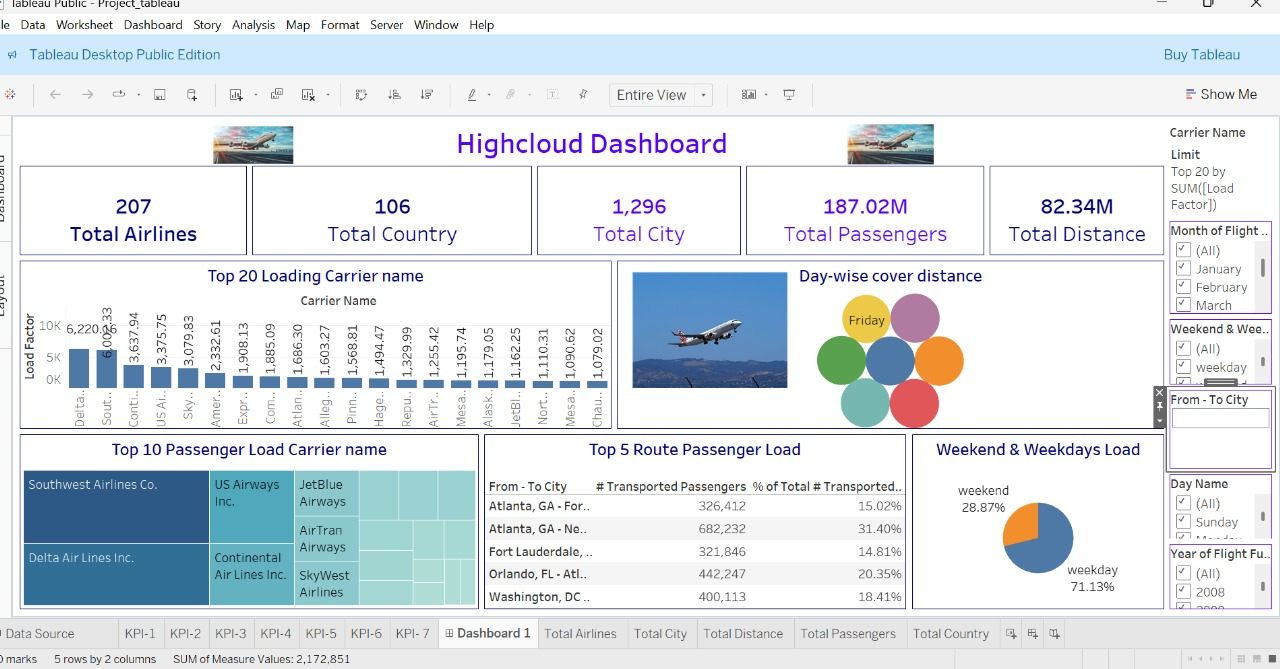

The dashboard page shown, as its layout file describes it:
{"tool":"tableau","page":{"name":"Dashboard 1","canvas":[1000,1000],"units":"permille","ordinal":0},"visuals":[{"type":"title","box":[4.2,10.7,906.5,84.5]},{"type":"filter","title":"KPI-3","param":"[federated.0r1rbe11ncxlyl14nt79317rqwx3].[none:Carrier Name:nk]","box":[910.7,10.7,85,194.4]},{"type":"image","param":"C:/Users/hp0084/OneDrive/ExcelR Project/Airoplane Image.jpg","box":[584.8,17.4,216.3,80.4]},{"type":"image","param":"C:/Users/hp0084/OneDrive/ExcelR Project/Airoplane Image.jpg","box":[71.1,21.4,238.8,75.1]},{"type":"worksheet","title":"Total Airlines","mark":"Automatic","box":[4.2,95.2,183.2,189]},{"type":"worksheet","title":"Total Country","mark":"Automatic","box":[187.4,95.2,224.9,189]},{"type":"worksheet","title":"Total City","mark":"Automatic","box":[412.3,95.2,165,189]},{"type":"worksheet","title":"Total Passengers","mark":"Automatic","box":[577.3,95.2,191.8,189]},{"type":"worksheet","title":"Total Distance","mark":"Automatic","box":[769.1,95.2,141.6,189]},{"type":"filter","title":"KPI-6","param":"[federated.0r1rbe11ncxlyl14nt79317rqwx3].[mn:Calculation_305681841304465409:ok]","box":[910.7,205.1,85,195.7]},{"type":"worksheet","title":"KPI-3","mark":"Automatic","rows":["Calculation_85568410148225024"],"cols":["Carrier Name"],"box":[4.2,284.2,471,345.9]},{"type":"worksheet","title":"KPI- 7","mark":"Circle","box":[475.2,284.2,435.5,345.9]},{"type":"image","param":"C:/Users/hp0084/OneDrive/ExcelR Project/airport-aviation.jpg","box":[489.4,312.3,122.2,262.7]},{"type":"filter","title":"KPI-6","param":"[federated.0r1rbe11ncxlyl14nt79317rqwx3].[none:Calculation_1607503608885133314:n","box":[910.7,400.8,85,140.3]},{"type":"filter","title":"KPI-5","param":"[federated.0r1rbe11ncxlyl14nt79317rqwx3].[none:From - To City:nk]","box":[910.7,541.1,85,167.6]},{"type":"worksheet","title":"KPI-4","mark":"Automatic","box":[4.2,630,366.2,359.2]},{"type":"worksheet","title":"KPI-5","mark":"Automatic","rows":["From - To City"],"box":[370.5,630,337.1,359.2]},{"type":"worksheet","title":"KPI-6","mark":"Pie","box":[707.6,630,203.2,359.2]},{"type":"filter","title":"KPI- 7","param":"[federated.0r1rbe11ncxlyl14nt79317rqwx3].[none:Calculation_1607503608886775811:n","box":[910.7,708.7,85,140.3]},{"type":"filter","title":"KPI-6","param":"[federated.0r1rbe11ncxlyl14nt79317rqwx3].[yr:Calculation_305681841304465409:ok]","box":[910.7,849,85,140.3]}]}

Visuals, with their boxes on the dashboard's canvas, which has no fixed pixel size, in thousandths of its width and height (x1, y1, x2, y2). These are canvas units, not pixel positions in the 1280x669 screenshot, which may show the page scaled, cropped or inside an application window:
title: l=4, t=11, r=911, b=95
"KPI-3" filter: l=911, t=11, r=996, b=205
image: l=585, t=17, r=801, b=98
image: l=71, t=21, r=310, b=96
"Total Airlines" worksheet: l=4, t=95, r=187, b=284
"Total Country" worksheet: l=187, t=95, r=412, b=284
"Total City" worksheet: l=412, t=95, r=577, b=284
"Total Passengers" worksheet: l=577, t=95, r=769, b=284
"Total Distance" worksheet: l=769, t=95, r=911, b=284
"KPI-6" filter: l=911, t=205, r=996, b=401
"KPI-3" worksheet: l=4, t=284, r=475, b=630
"KPI- 7" worksheet (Circle marks): l=475, t=284, r=911, b=630
image: l=489, t=312, r=612, b=575
"KPI-6" filter: l=911, t=401, r=996, b=541
"KPI-5" filter: l=911, t=541, r=996, b=709
"KPI-4" worksheet: l=4, t=630, r=370, b=989
"KPI-5" worksheet: l=370, t=630, r=708, b=989
"KPI-6" worksheet (Pie marks): l=708, t=630, r=911, b=989
"KPI- 7" filter: l=911, t=709, r=996, b=849
"KPI-6" filter: l=911, t=849, r=996, b=989
